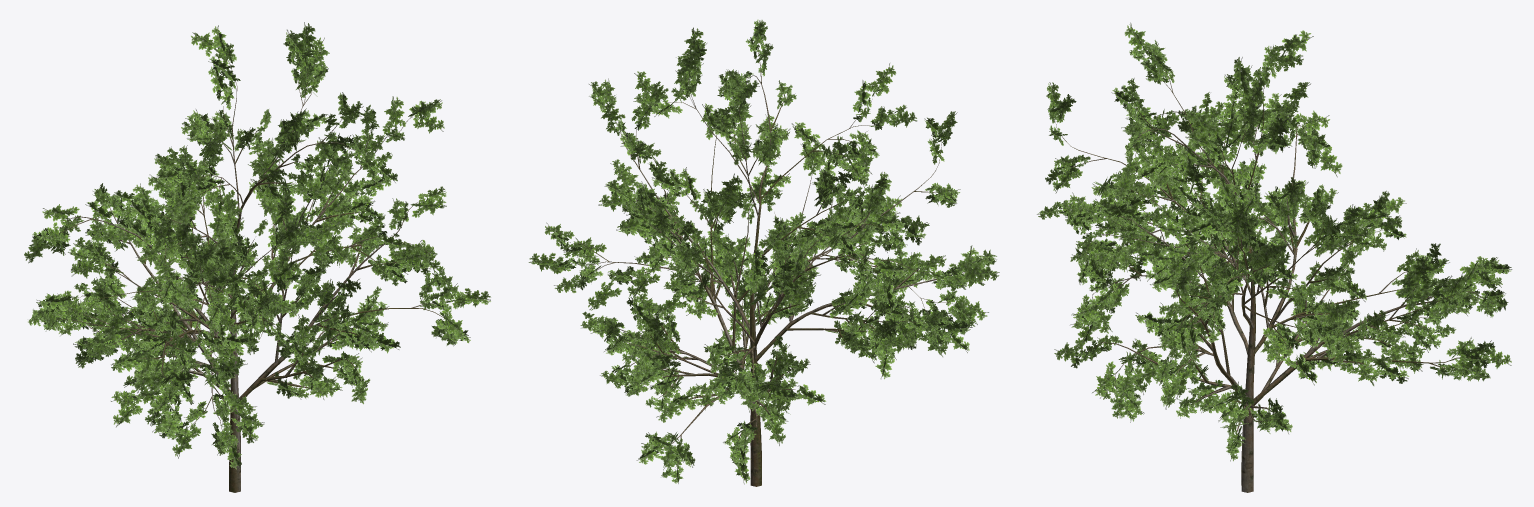
Rendered from rubber-b.glb.
3 renders of one model, left to right at view 1: azimuth 30°, elevation 25°; view 2: azimuth 150°, elevation 25°; view 3: azimuth 270°, elevation 25°, orthographic. The views are drawn at different scales.
Parts seen in each view (by area): view 1: Tree; view 2: Tree; view 3: Tree.
Boxes of the visible parts, x1,y1,x2,y2 form: Tree: (24,22,490,492); Tree: (528,19,999,486); Tree: (1037,22,1512,492).
Bounding box in the file's own units: 18.45 × 19 × 17.89.
Materials: 2 (2 with a texture image).
